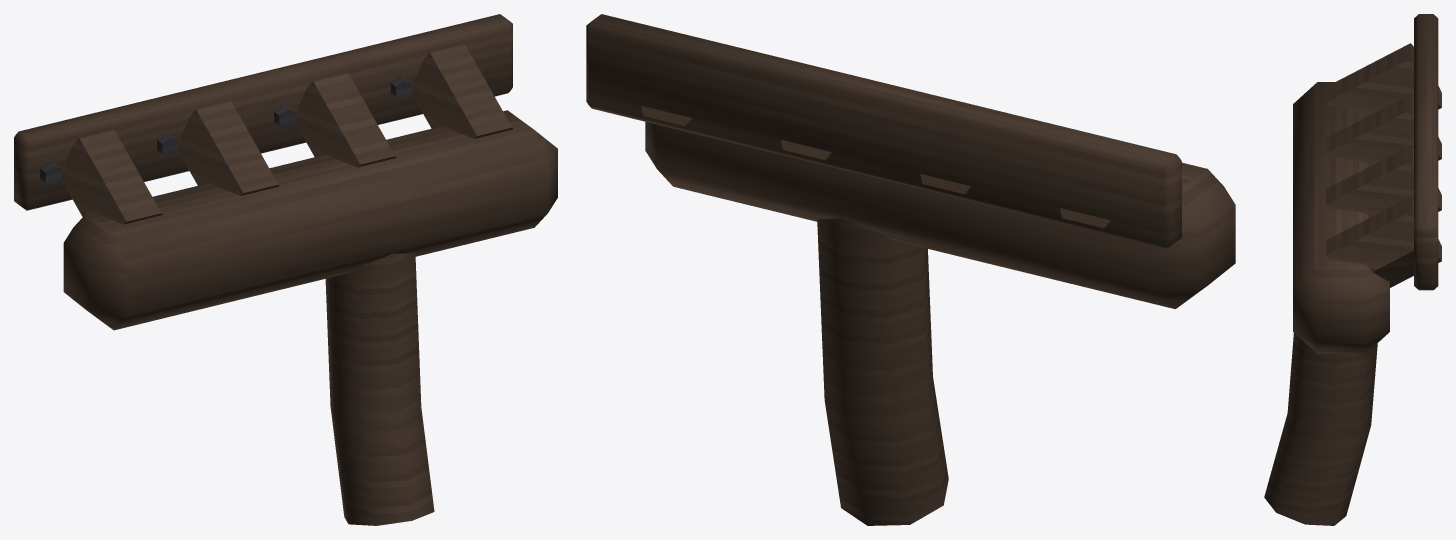
File: coletor_escape_fabrica.glb
3 renders of one model, left to right at view 1: azimuth 30°, elevation 25°; view 2: azimuth 150°, elevation 25°; view 3: azimuth 270°, elevation 25°, orthographic. The views are drawn at different scales.
Visible parts, largest first — view 1: coletor_escape_fabrica; view 2: coletor_escape_fabrica; view 3: coletor_escape_fabrica.
Boxes of the visible parts, box(x1,y1,x2,y2) form: coletor_escape_fabrica: box(14, 14, 557, 525); coletor_escape_fabrica: box(586, 14, 1235, 525); coletor_escape_fabrica: box(1264, 14, 1441, 525).
Bounding box in the file's own units: 0.42 × 0.3385 × 0.1468.
1 material, 1 textured.
